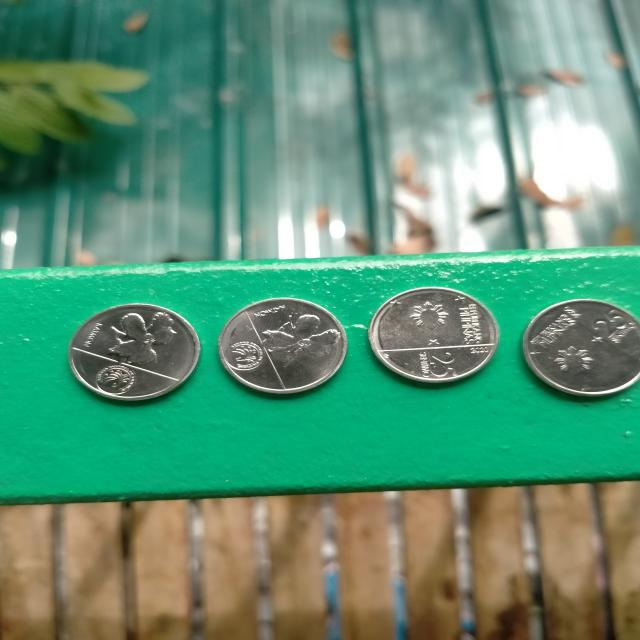25Cent_New_Back: (88, 313, 179, 401)
25Cent_New_Front: (404, 298, 489, 382)
